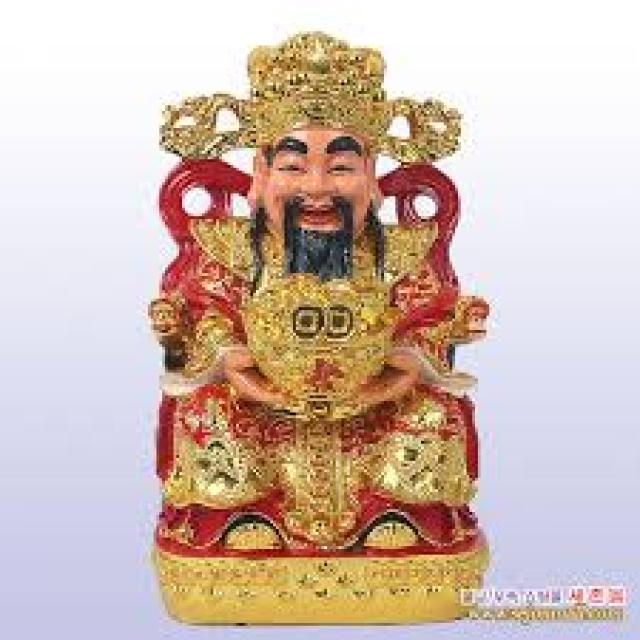Cai shen: (148, 30, 496, 532)
